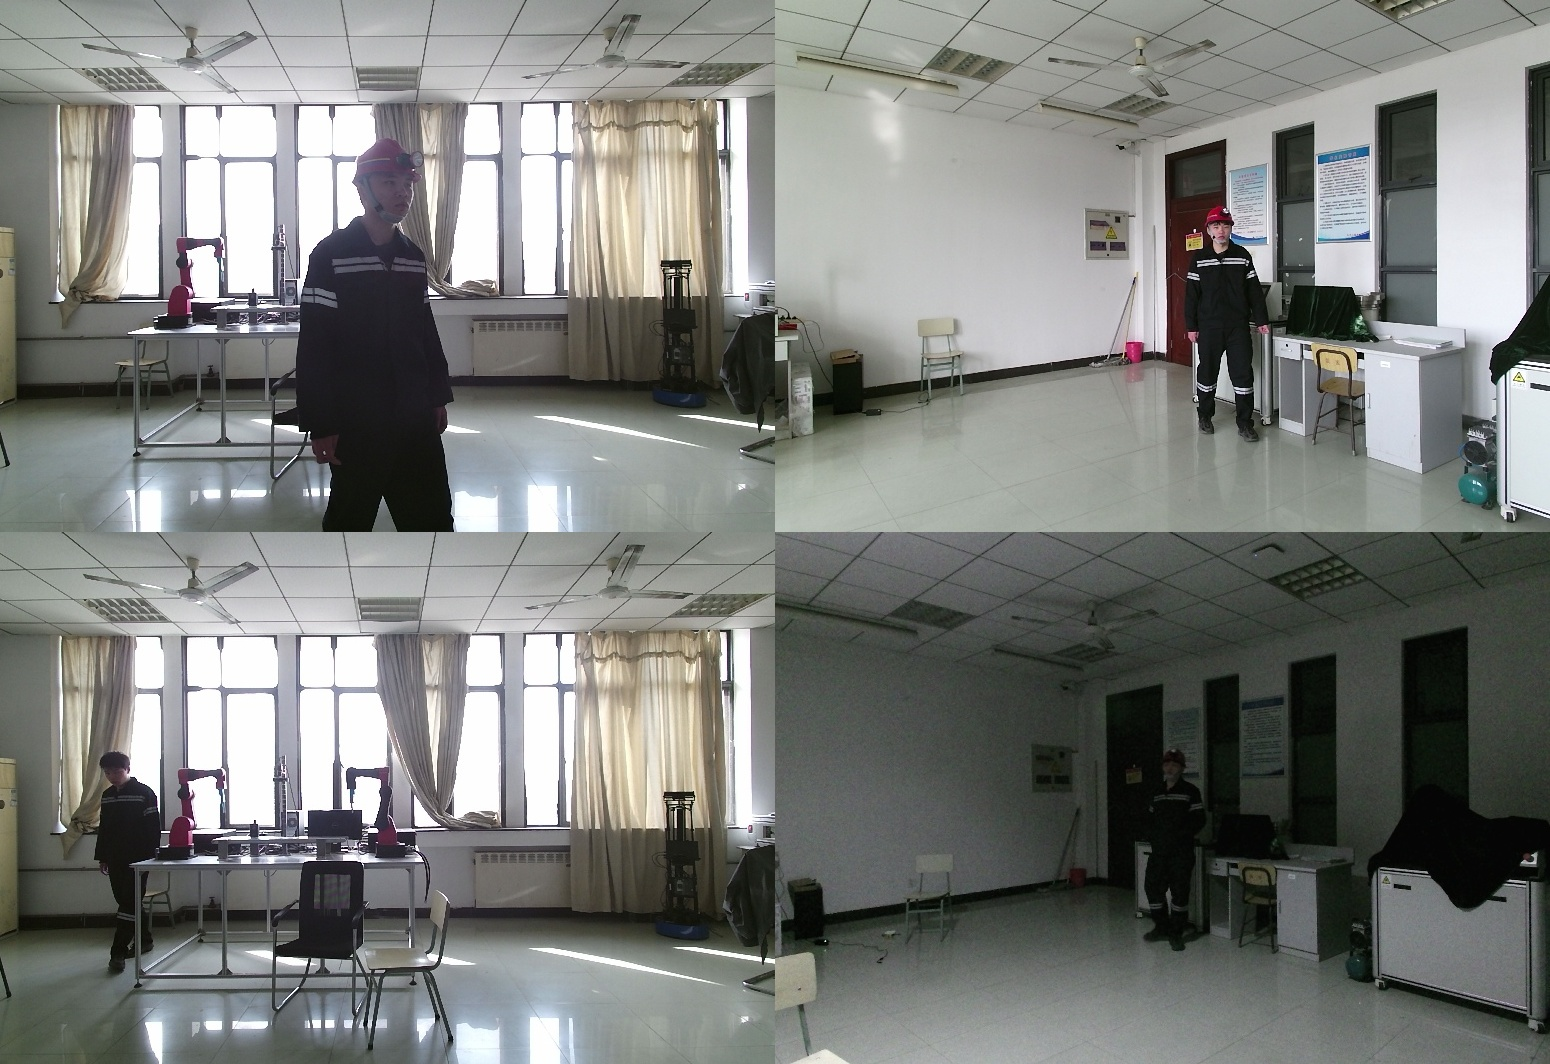person: (293, 137, 455, 532), (1187, 207, 1275, 440), (90, 752, 166, 969), (1144, 747, 1207, 955)
